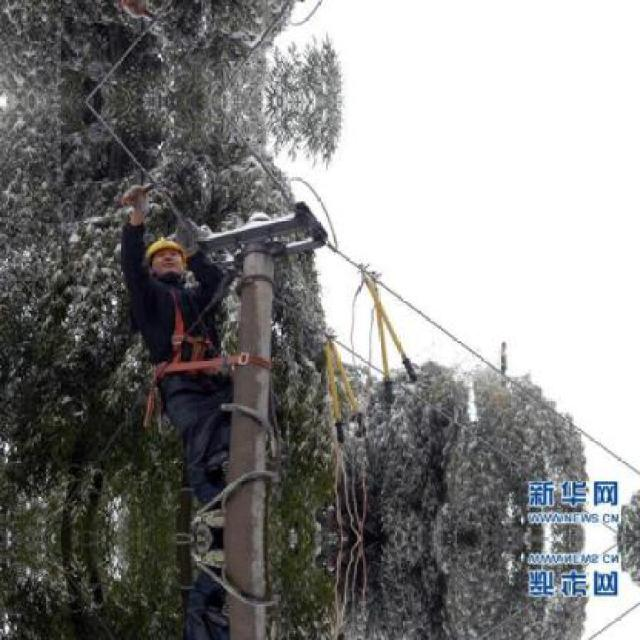helmet: (146, 232, 186, 278)
